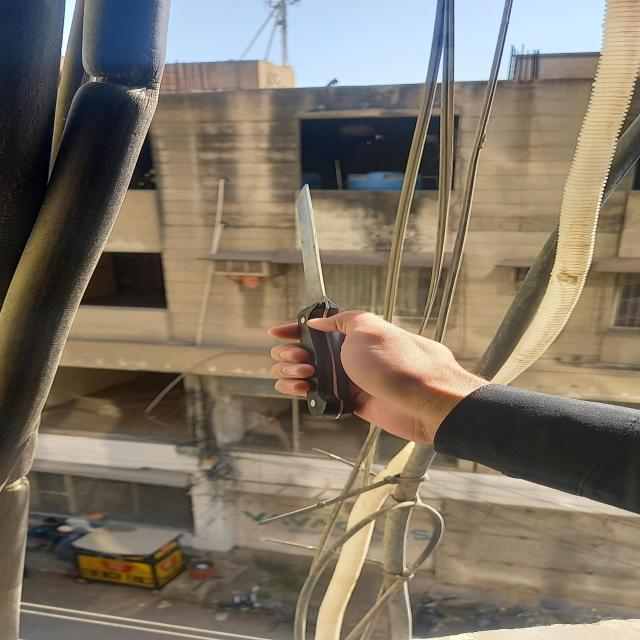weapon: (299, 186, 356, 420)
